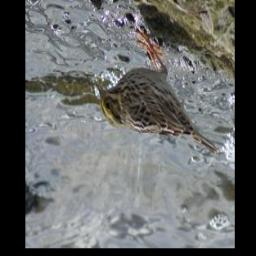Sparrow: (96, 30, 218, 156)
